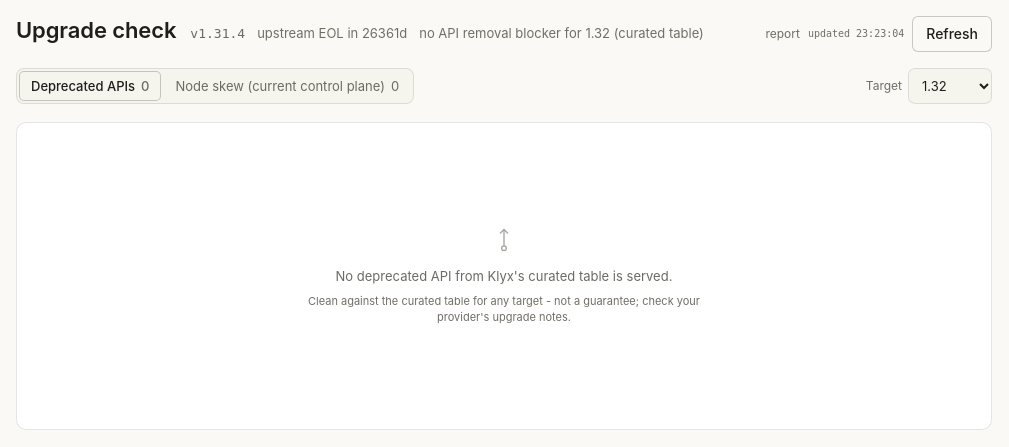
Test: UpgradeView skew is a current prerequisite, not target readiness (Codex 1e89fc5a) › a refreshed report with a new server minor drops an obsolete target
Expected: the text "v1.31.4" is shown, [190,25,245,43]
Select "1.32" in the dropdown named "target minor": (950, 86) [908,66,992,106]
Click the button "Refresh": click(952, 34) [912,16,992,52]
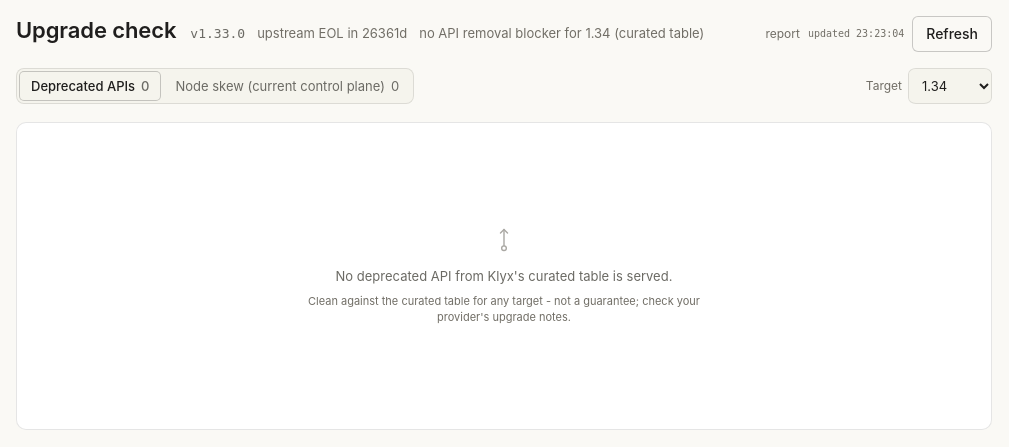
Expected: the text "v1.33.0" is shown, [190,25,245,43]
